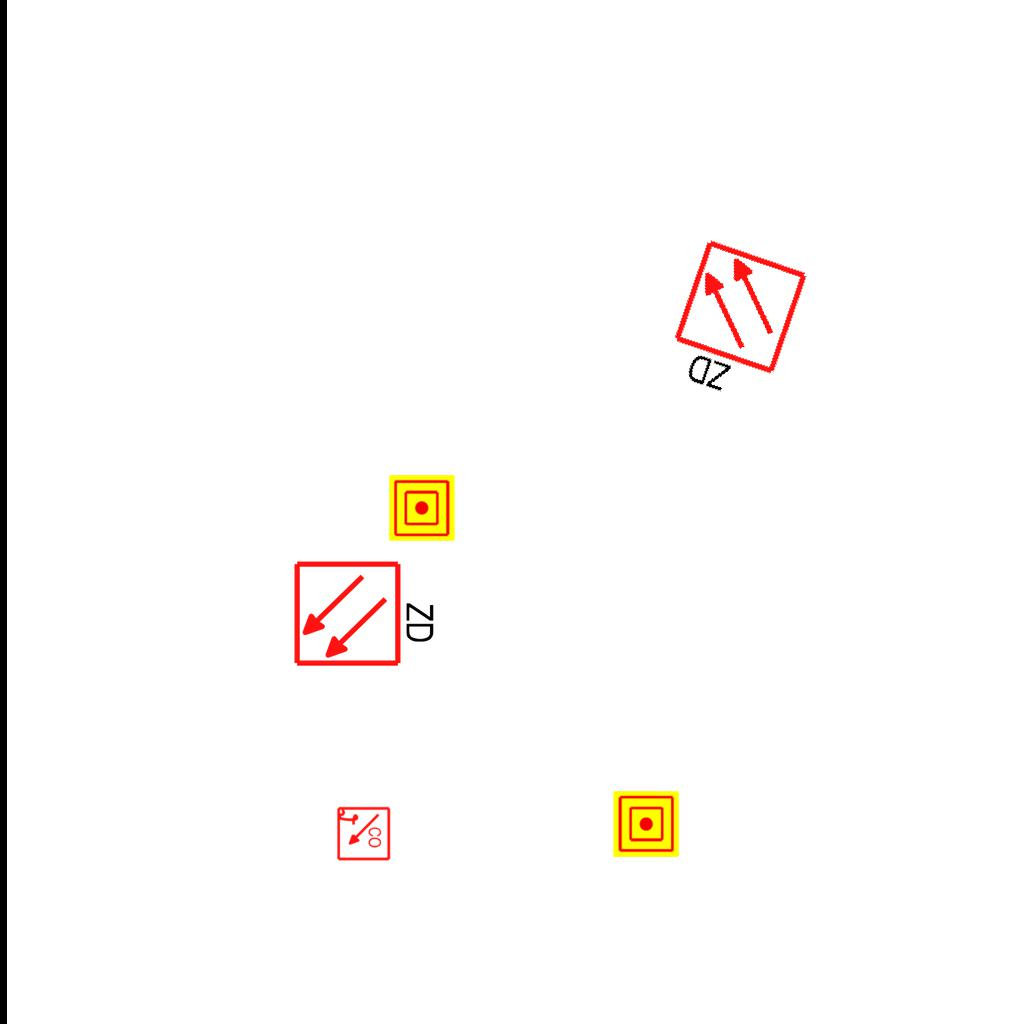NAM-Nichtautomatischer_Melder: (389, 475, 455, 541), (613, 791, 679, 857)
ROA_Rauchmelder_optisch_mit_Signalgeber_(Sockelsirene): (335, 806, 391, 862)
ZD_Melder_in_Zwischendecke_mit_Revisionsoeffnung_mind_40_x_40_cm: (657, 236, 815, 415), (292, 555, 441, 669)
